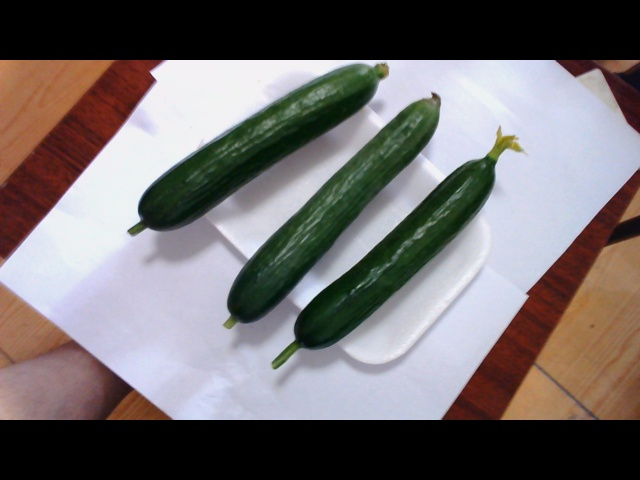cucumber: (137, 92, 492, 342)
